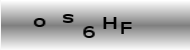6: (82, 25, 95, 39)
F: (119, 21, 132, 35)
H: (101, 15, 117, 30)
o: (33, 17, 46, 28)
s: (61, 13, 76, 24)
